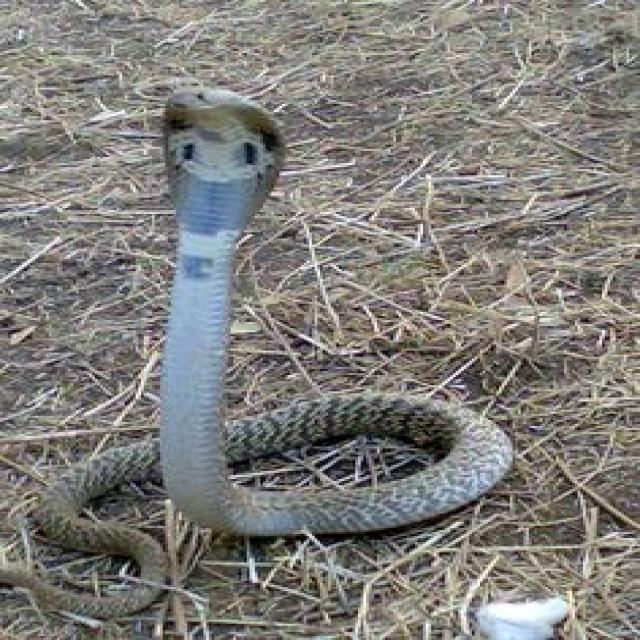Snake: (0, 77, 524, 626)
